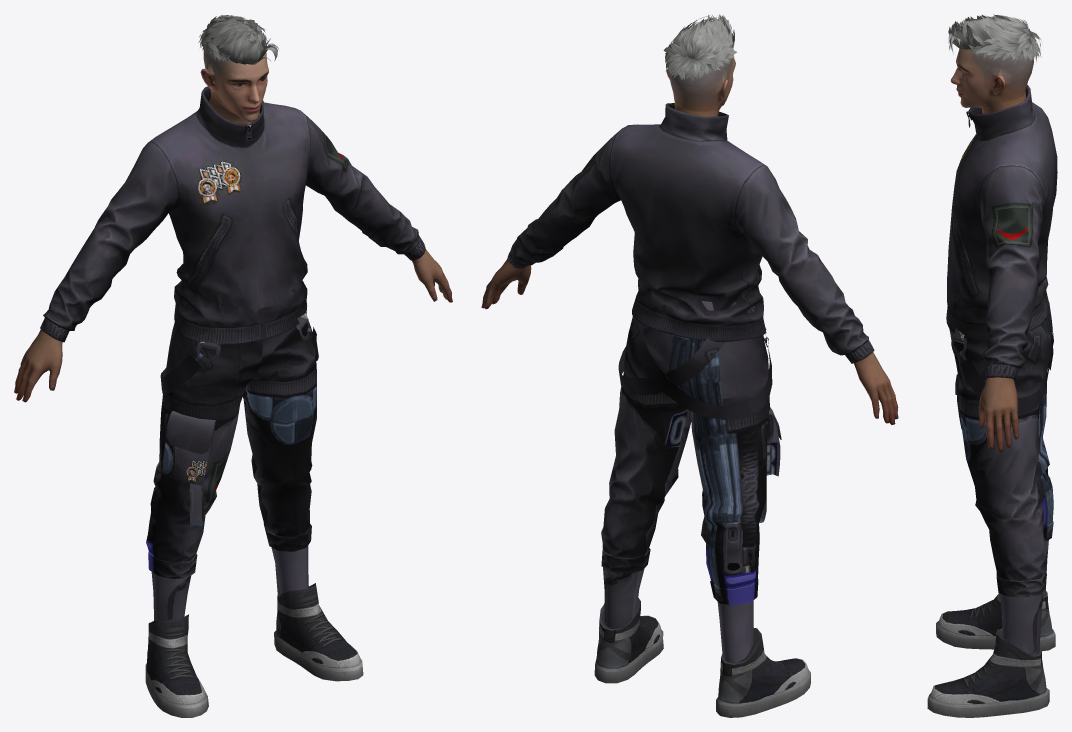
The model's file is freefire_new_male_3d_model_by_pace_gaming_ff.glb.
3 renders of one model, left to right at view 1: azimuth 30°, elevation 25°; view 2: azimuth 150°, elevation 25°; view 3: azimuth 270°, elevation 25°, orthographic.
Parts seen in each view (by area): view 1: Object_5, Object_4, Object_2, Object_3, Object_6; view 2: Object_5, Object_4, Object_2, Object_3, Object_6; view 3: Object_5, Object_4, Object_2, Object_3, Object_6.
Part boxes in pixels (x1,y1,x2,y2): Object_5: (40, 86, 425, 344); Object_4: (146, 288, 318, 620); Object_2: (145, 583, 363, 717); Object_3: (14, 28, 452, 402); Object_6: (198, 15, 278, 64); Object_5: (507, 103, 874, 363); Object_4: (601, 301, 781, 662); Object_2: (594, 598, 810, 717); Object_3: (481, 55, 898, 424); Object_6: (663, 14, 736, 81); Object_5: (946, 85, 1057, 379); Object_4: (949, 297, 1053, 654); Object_2: (927, 591, 1055, 717); Object_3: (950, 49, 1033, 451); Object_6: (948, 14, 1041, 61).
Bounding box in the file's own units: 3.95 × 5.91 × 1.06.
5 materials, 5 textured.
